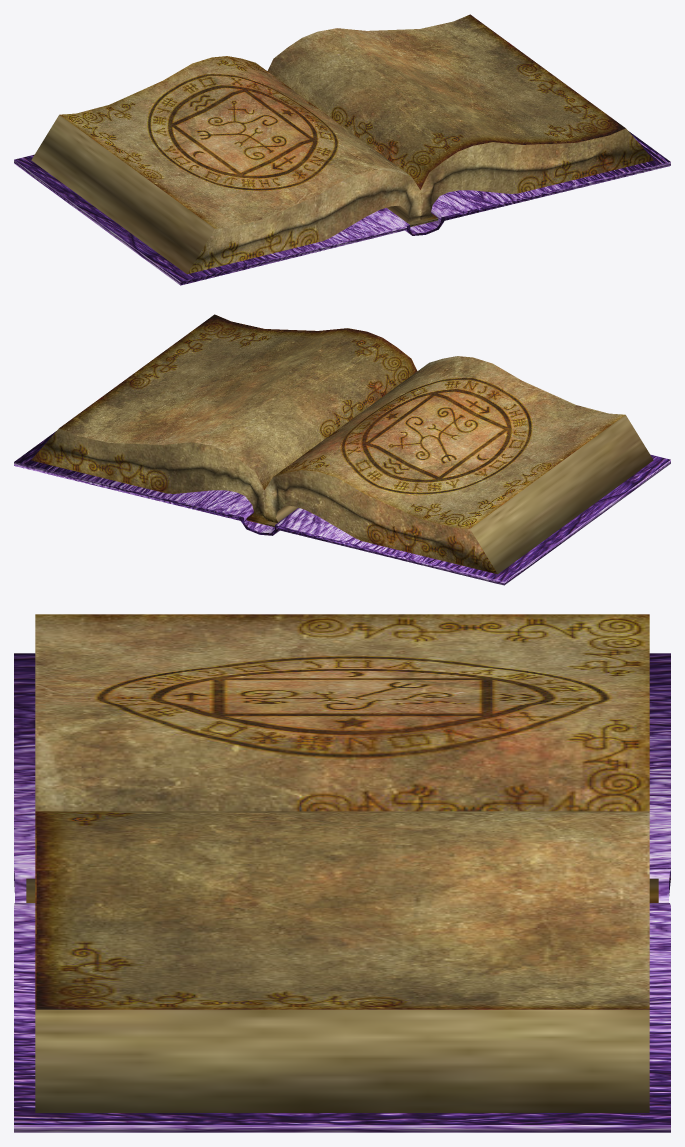
The model's file is Grimoire.fbx.
3 renders of one model, top to bottom at view 1: azimuth 30°, elevation 25°; view 2: azimuth 150°, elevation 25°; view 3: azimuth 270°, elevation 25°, orthographic. The views are drawn at different scales.
Parts seen in each view (by area): view 1: Cylinder; view 2: Cylinder; view 3: Cylinder.
Part boxes in pixels (x1,y1,x2,y2): Cylinder: [14, 14, 670, 285]; Cylinder: [14, 314, 670, 585]; Cylinder: [14, 614, 670, 1132].
Size of the model in its own units: 1704 by 241 by 1003.
